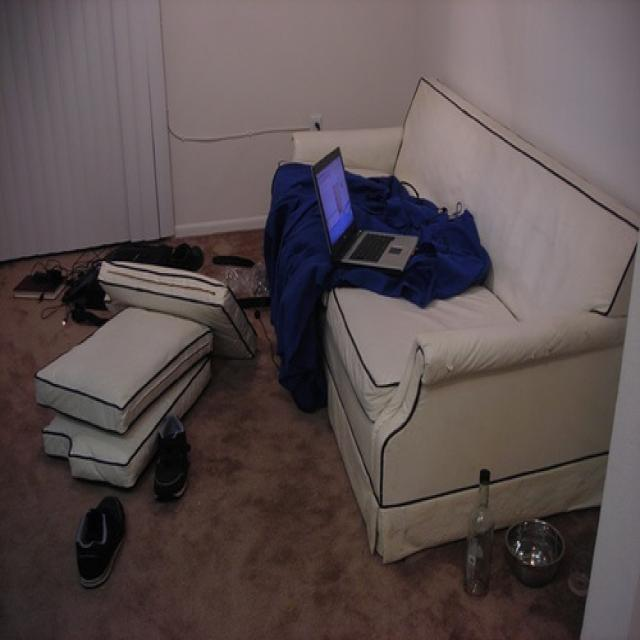bottle: (465, 464, 495, 602)
sofa: (272, 71, 638, 566)
